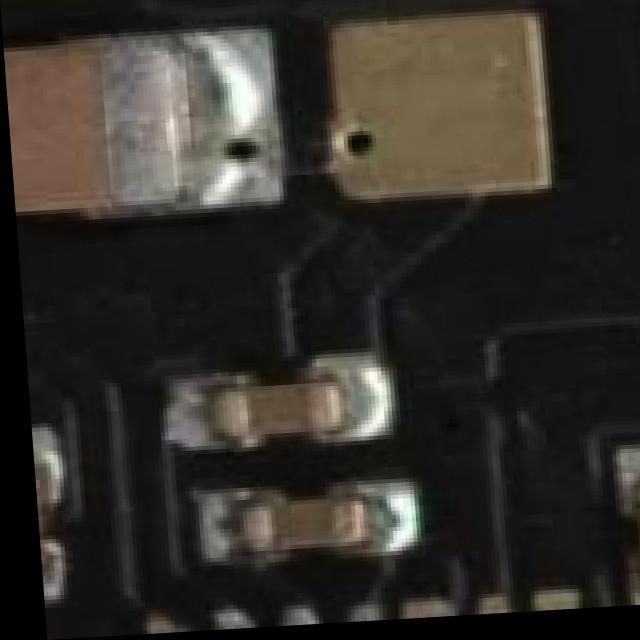capacitor: (3, 38, 229, 216), (201, 488, 386, 568), (191, 384, 362, 442), (602, 482, 640, 581), (26, 447, 50, 580)
